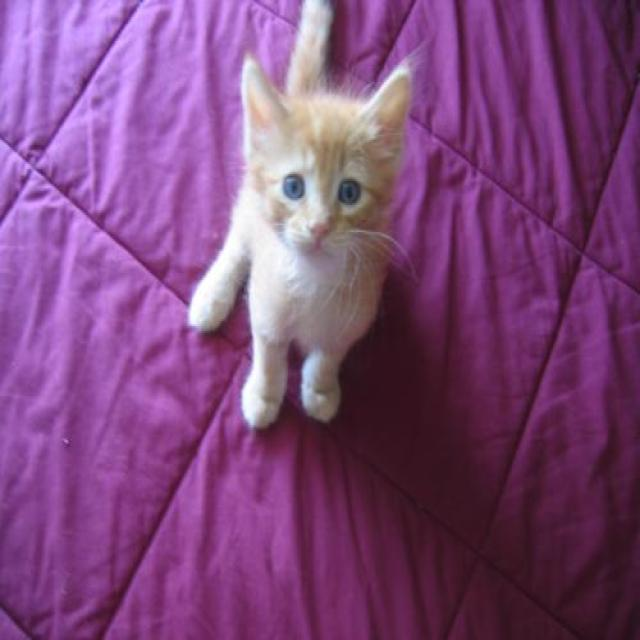Cats: (186, 0, 426, 430)
